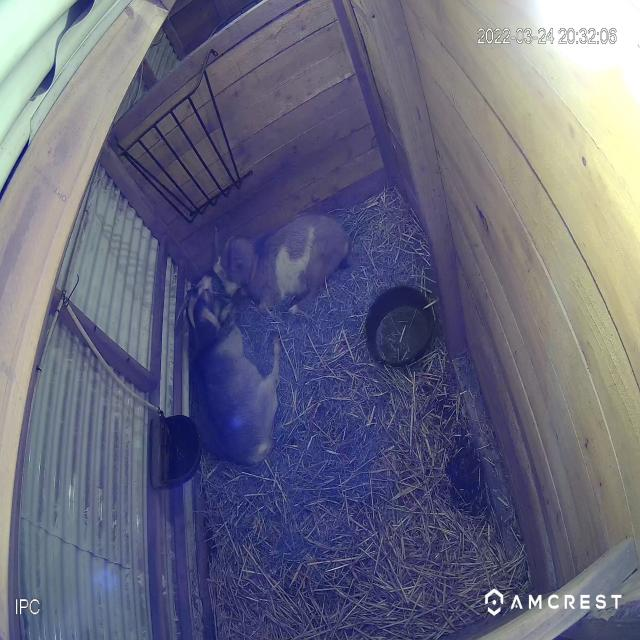goat: (173, 256, 291, 466), (198, 206, 366, 318)
